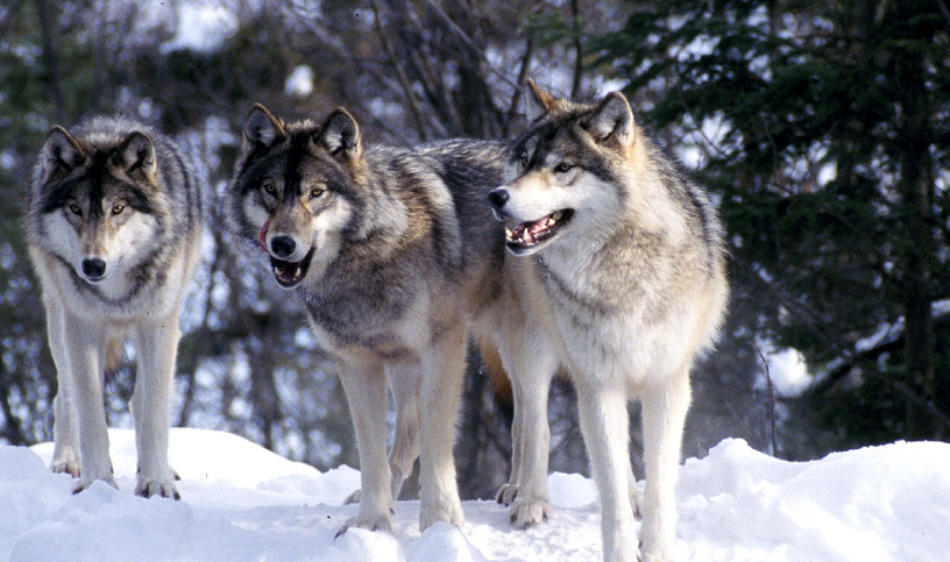wolf: (249, 113, 529, 535), (1, 92, 229, 502), (511, 98, 710, 554)
